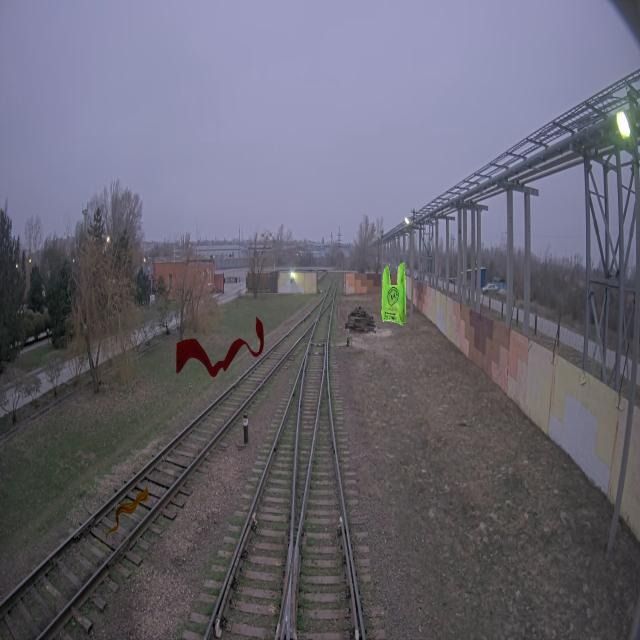floating object: (175, 314, 265, 378), (104, 480, 148, 544)
plastic bag: (380, 262, 406, 326)
